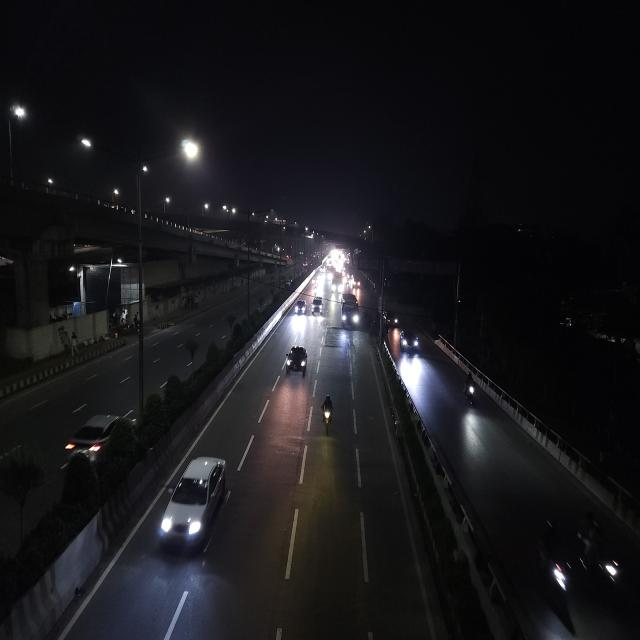bus: (339, 290, 361, 330)
car: (532, 510, 626, 606), (154, 450, 233, 560), (62, 408, 136, 465), (282, 343, 310, 379), (398, 329, 421, 357), (292, 296, 308, 316), (385, 310, 400, 329), (310, 294, 324, 314)
motorcycle: (319, 392, 336, 435), (461, 371, 479, 410)
